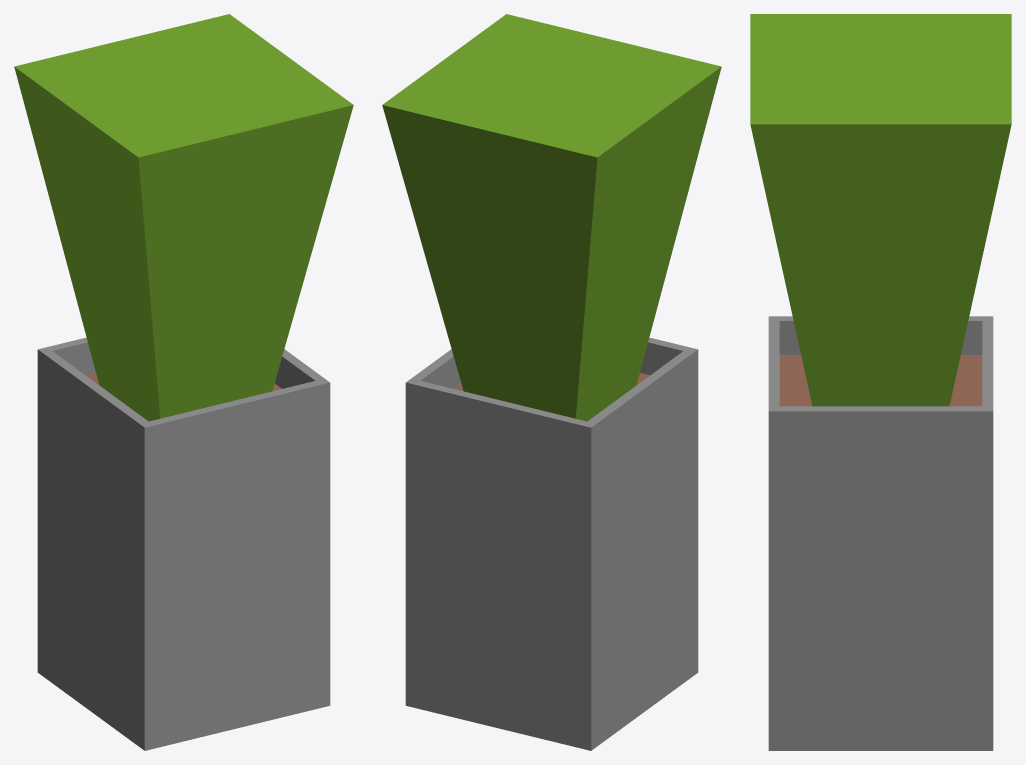
File: deco_01.fbx
3 views of the same model, side by side, from view 1: azimuth 30°, elevation 25°; view 2: azimuth 150°, elevation 25°; view 3: azimuth 270°, elevation 25° (orthographic). The views are drawn at different scales.
Visible parts, largest first — view 1: deco_01; view 2: deco_01; view 3: deco_01.
Part boxes in pixels (x1,y1,x2,y2): deco_01: (14,14,353,750); deco_01: (382,14,721,750); deco_01: (750,14,1011,750).
Bounding box in the file's own units: 0.697 × 1.87 × 0.697.
